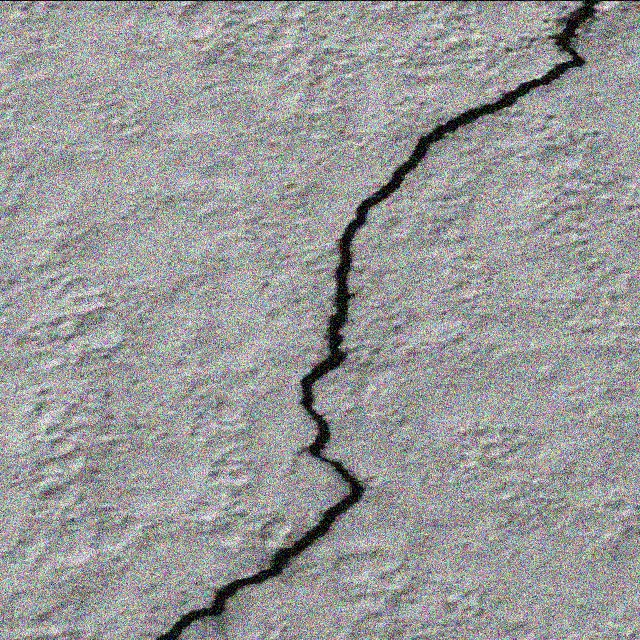SurfaceCrack: (228, 0, 632, 639)
